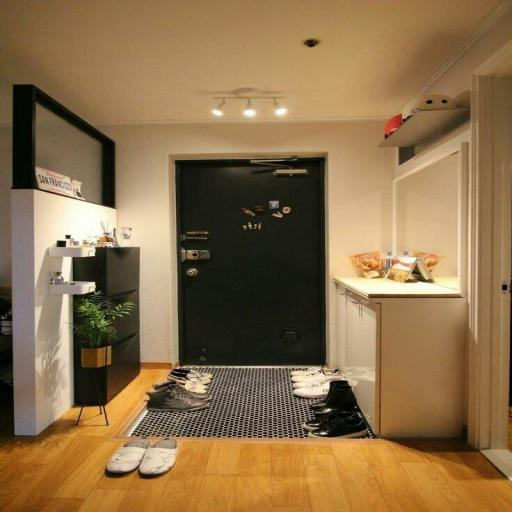corridor: (177, 160, 325, 365)
curb: (0, 0, 512, 512)
road: (45, 221, 108, 305), (379, 109, 467, 147)
